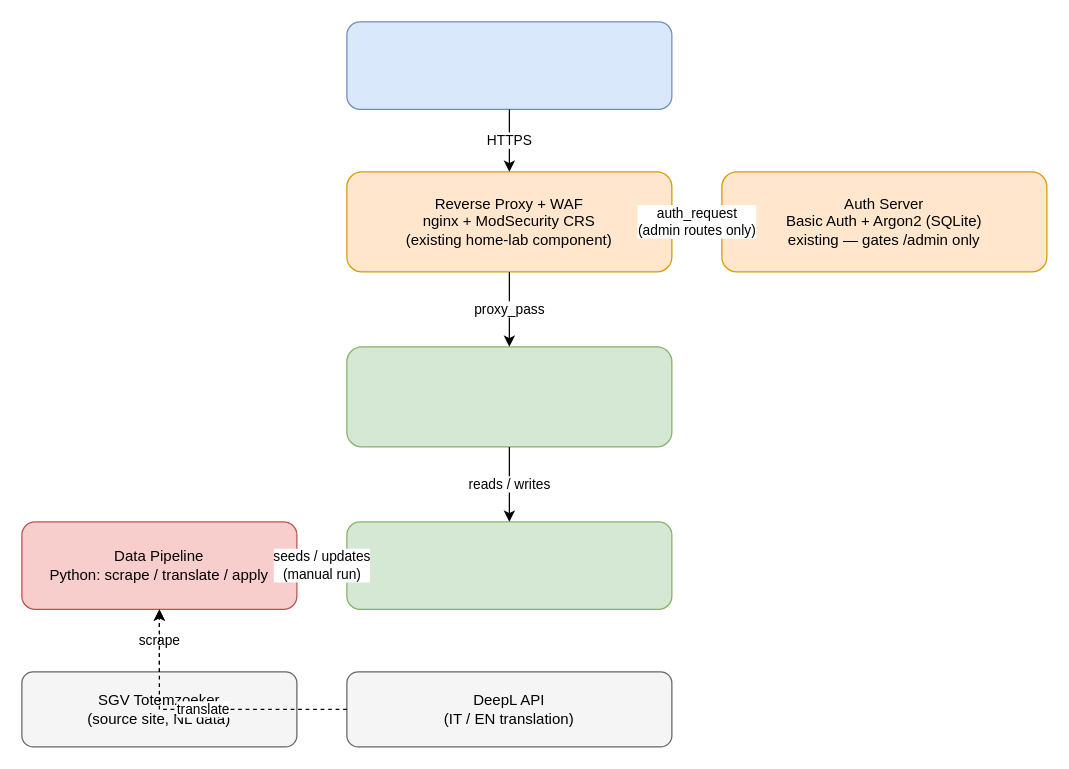
Image size: 1069x769. Some labels were removed from this diagram. The centre of each missing label's shape, as x and y in pixels:
"animals.db (SQLite)" goes at pixel 509 565.
"Browser Vue SPA (IT / EN)" goes at pixel 509 65.
"Totems-IT Go API + embedded Vue build" goes at pixel 509 396.
